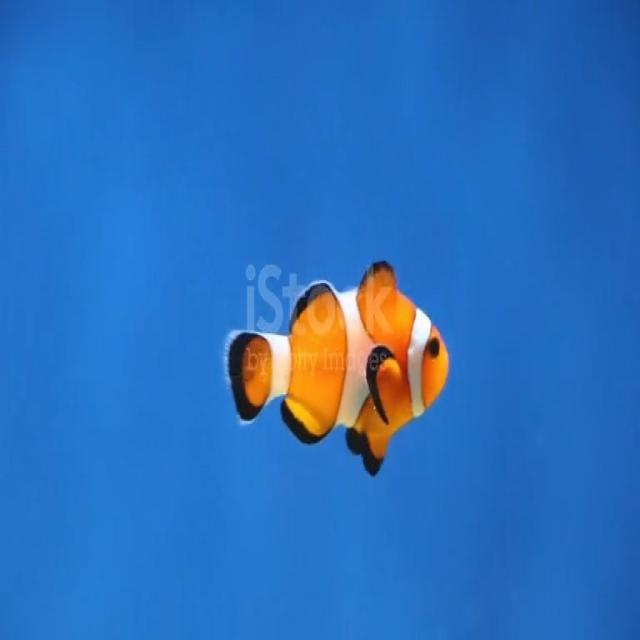fish: (222, 253, 452, 491)
